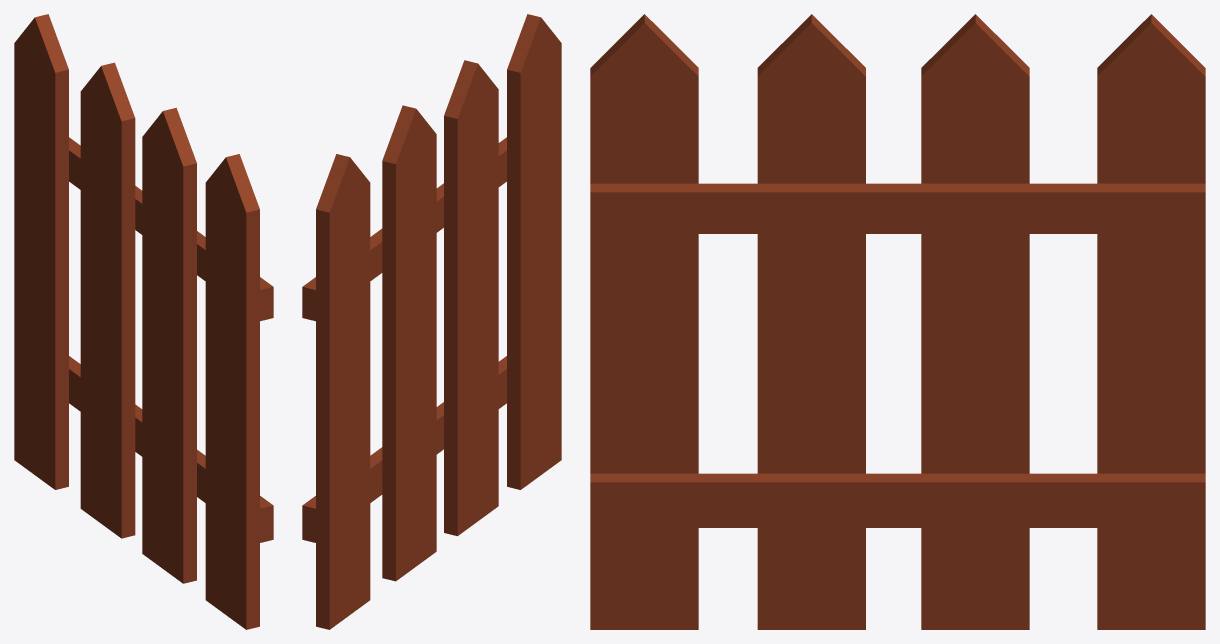
Rendered from Fence Wood 1.fbx.
3 renders of one model, left to right at view 1: azimuth 30°, elevation 25°; view 2: azimuth 150°, elevation 25°; view 3: azimuth 270°, elevation 25°, orthographic. The views are drawn at different scales.
Parts seen in each view (by area): view 1: Plano.003; view 2: Plano.003; view 3: Plano.003.
Part boxes in pixels (bbox=[...]): Plano.003: bbox=[14, 14, 273, 629]; Plano.003: bbox=[302, 14, 561, 629]; Plano.003: bbox=[590, 14, 1205, 629].
Bounding box in the file's own units: 14.72 × 237 × 217.
